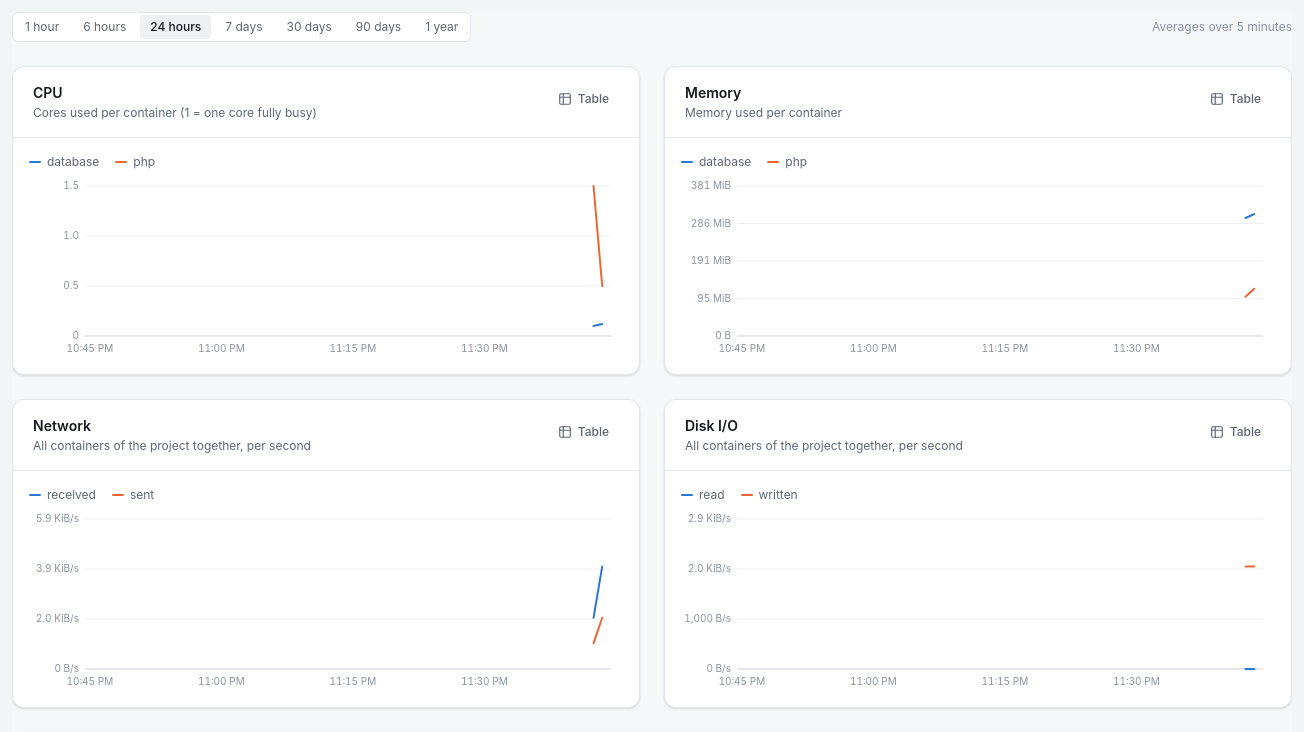
ResourcesTab › draws the history per container and switches range and table
Expected: the picture named "CPU" is shown, 29,178 -> 623,358
Expected: the picture named "Memory" is shown, 681,178 -> 1275,358
What coordinates should you click on to do the following:
click the 1st button "Table"
I would click on:
 (583, 99)
Its box is 548,83 -> 619,115.
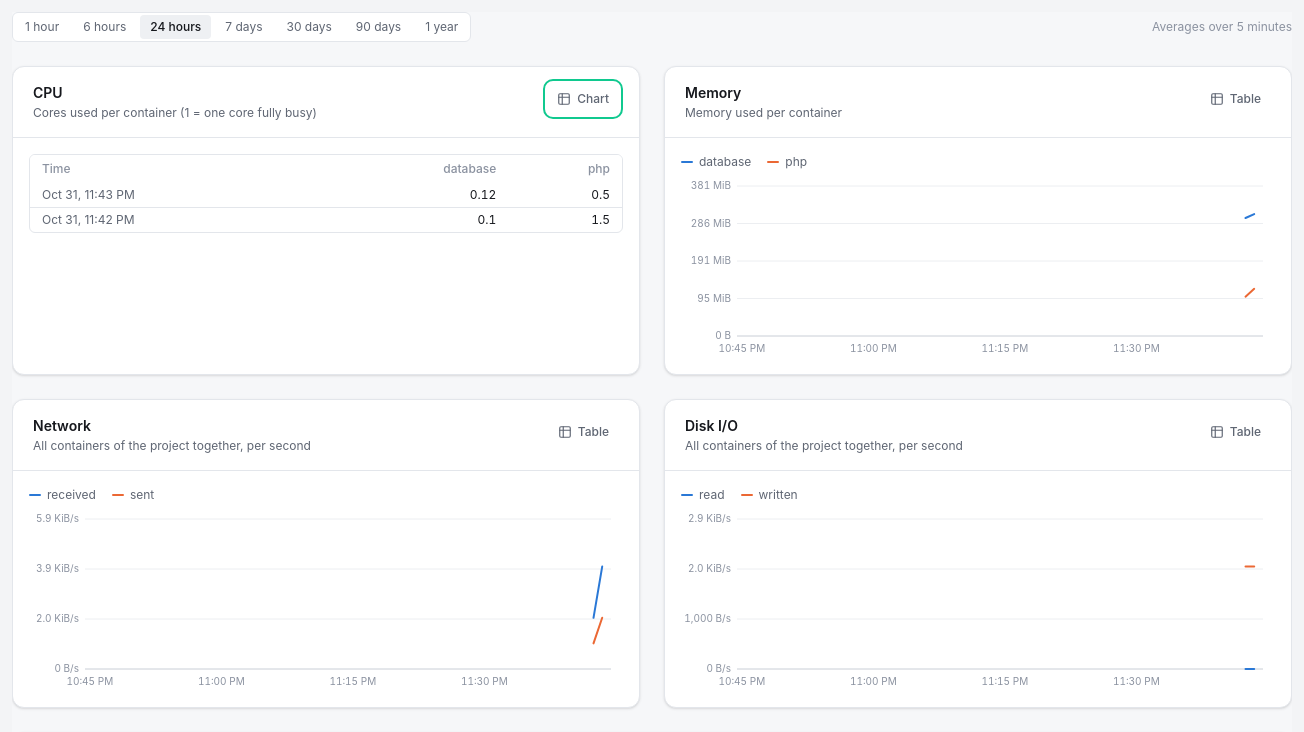
Expected: the column heading "php" is shown, 508,155 -> 622,183
Expected: the cell "1.5" is shown, 508,208 -> 622,232
What coordinates should you click on to do the following:
click the radio button labelled "1 hour"
I would click on:
 (42, 27)
Its box is 15,15 -> 69,39.
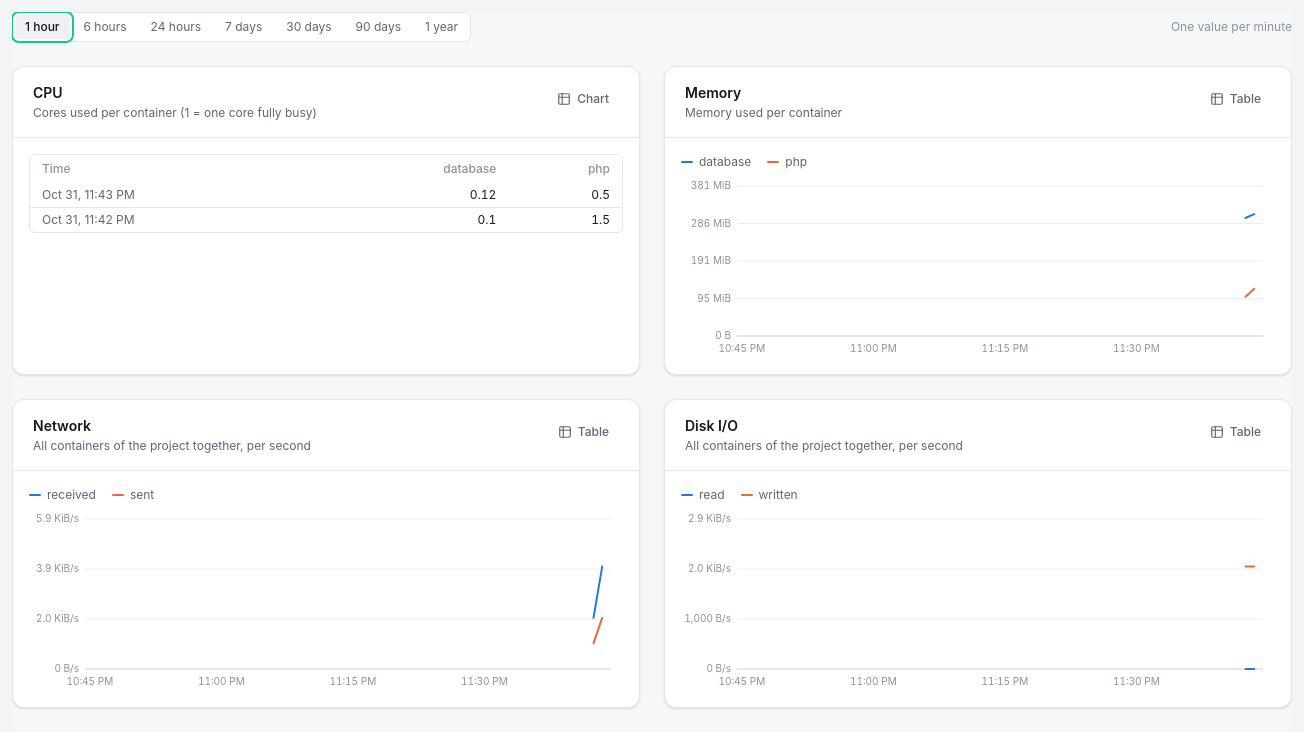
Now the text "One value per minute" is shown, box 1171,19 -> 1292,35
